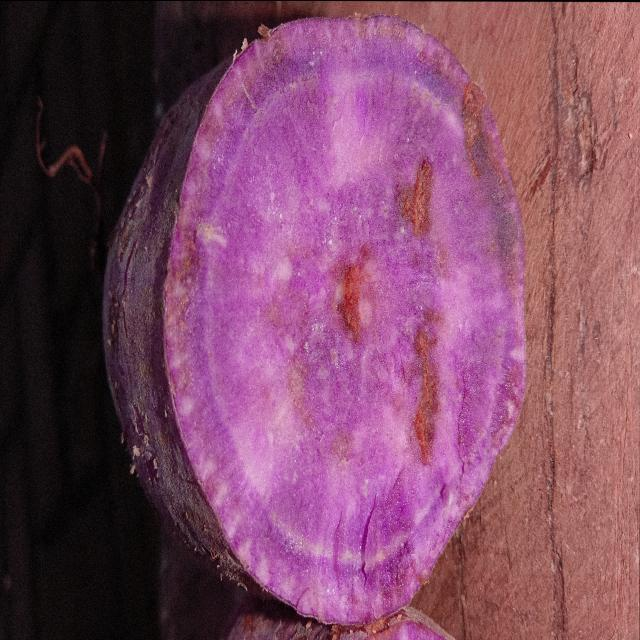Sick Sweet Potato_Tuber Rot: (165, 16, 525, 622)
